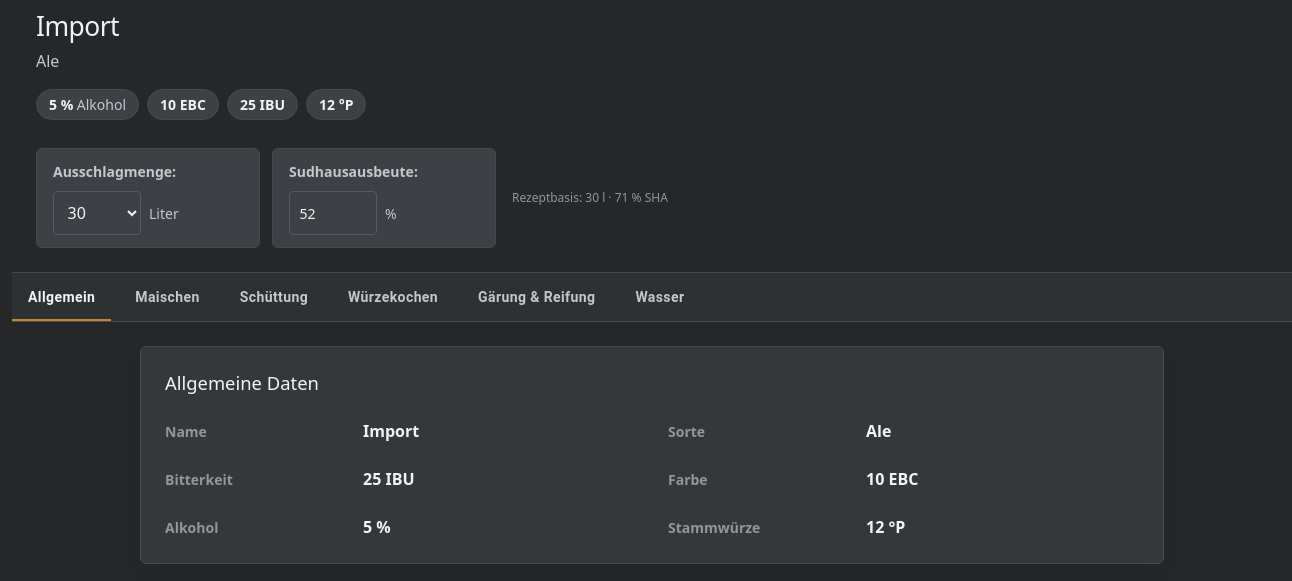
Test: displays the unknown ingredient fallback when neither recipe nor master data has a name
Click the tab "Schüttung".
click(274, 297)  # box left=224, top=273, right=324, bottom=321
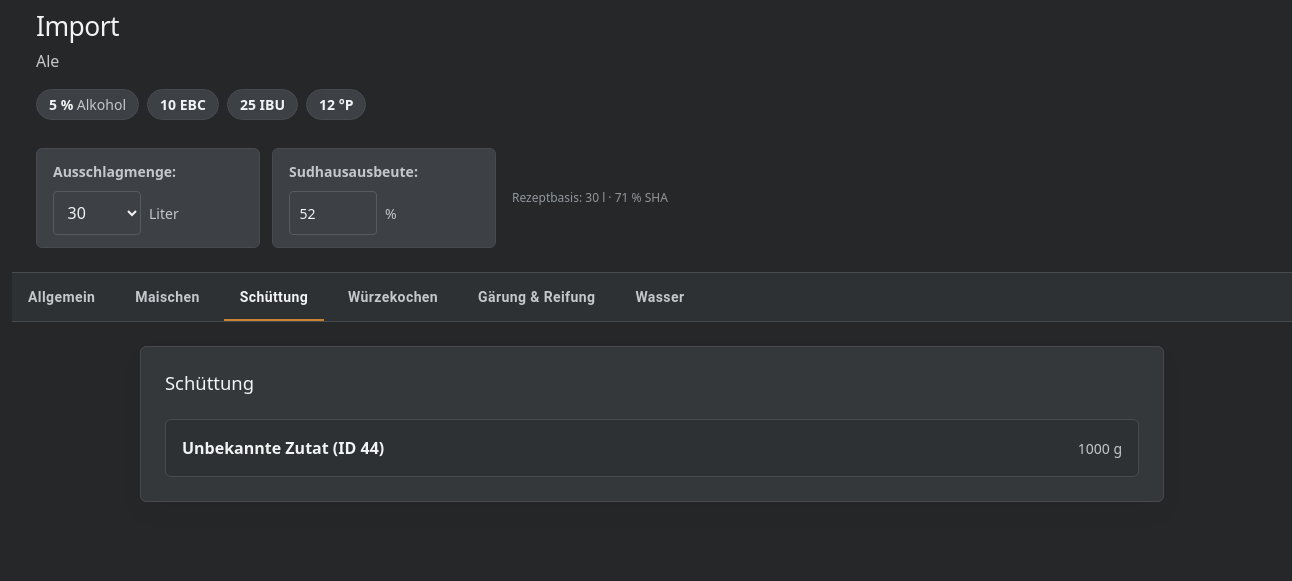
Result: the text "Unbekannte Zutat (ID 44)" is shown at left=182, top=436, right=384, bottom=460
